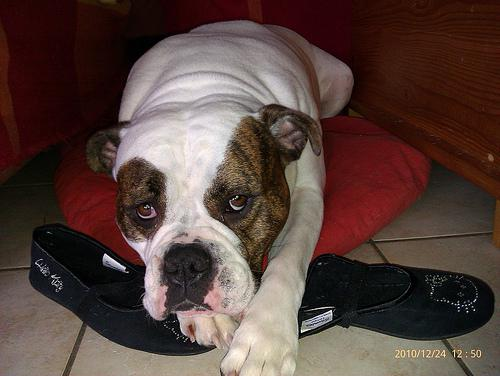dog-american_bulldog: (83, 103, 321, 319)
